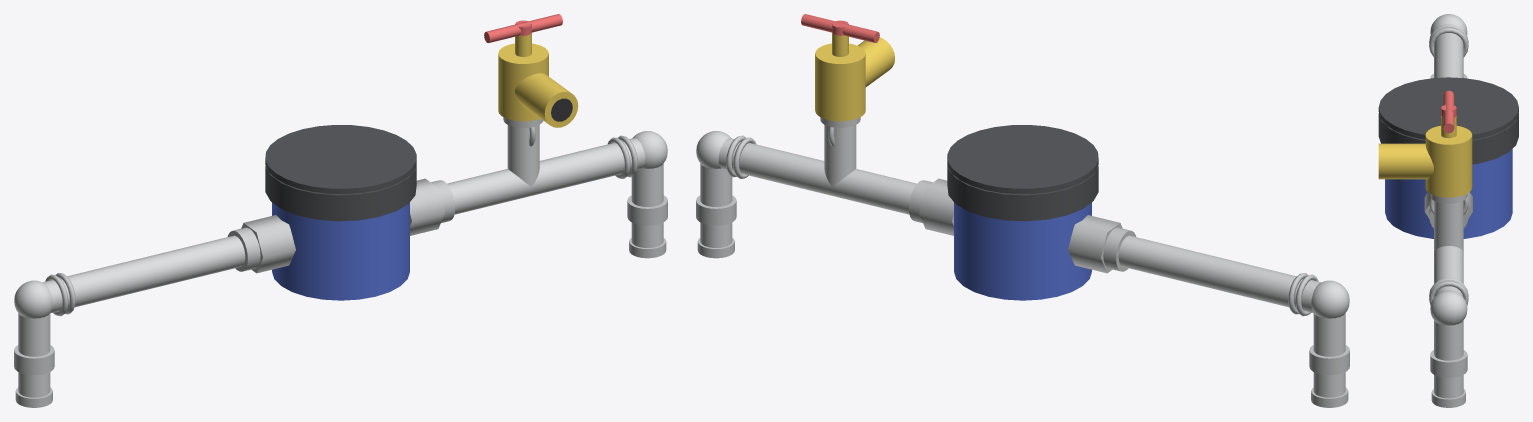
Rendered from hidrometro.gltf.
3 renders of one model, left to right at view 1: azimuth 30°, elevation 25°; view 2: azimuth 150°, elevation 25°; view 3: azimuth 270°, elevation 25°, orthographic. The views are drawn at different scales.
Parts seen in each view (by area): view 1: Hidrometro; view 2: Hidrometro; view 3: Hidrometro.
Part boxes in pixels (x1,y1,x2,y2): Hidrometro: (14,14,667,407); Hidrometro: (696,14,1349,407); Hidrometro: (1378,14,1518,407).
Bounding box in the file's own units: 8.88 × 3.37 × 1.81.
